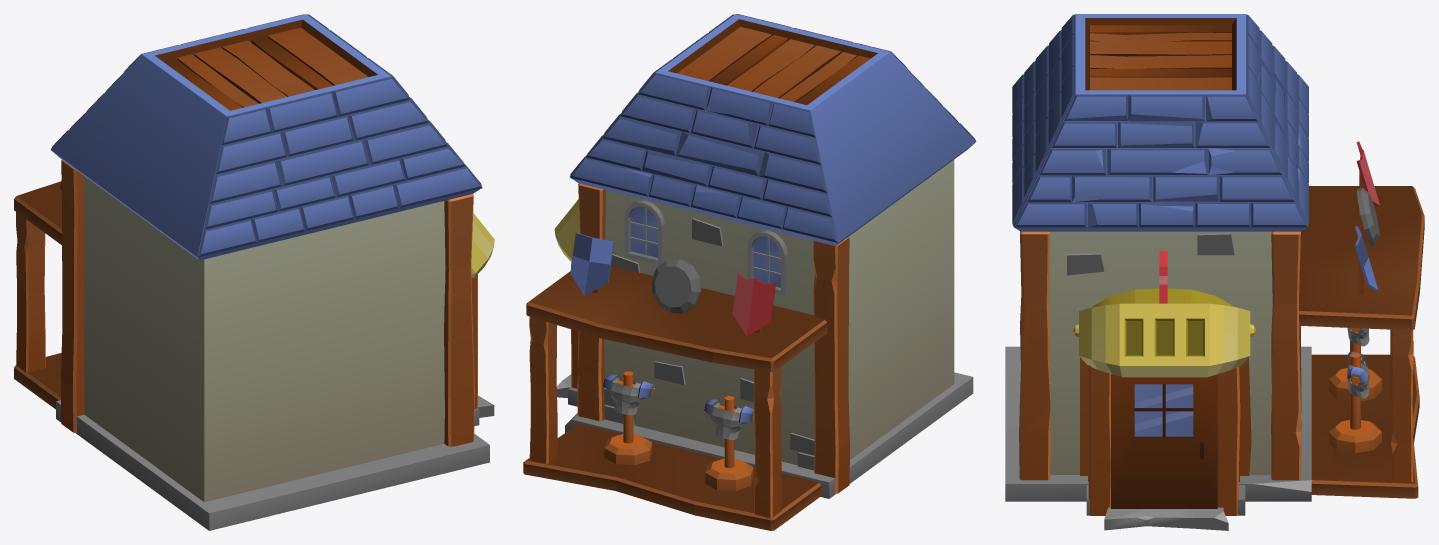
Rendered from armorer_01.fbx.
3 renders of one model, left to right at view 1: azimuth 30°, elevation 25°; view 2: azimuth 150°, elevation 25°; view 3: azimuth 270°, elevation 25°, orthographic. The views are drawn at different scales.
Parts seen in each view (by area): view 1: Box059.039; view 2: Box059.039; view 3: Box059.039.
Part boxes in pixels (x1,y1,x2,y2): Box059.039: [14, 14, 494, 530]; Box059.039: [523, 14, 976, 530]; Box059.039: [1005, 14, 1424, 530].
Bounding box in the file's own units: 6.2 × 6.41 × 6.42.
